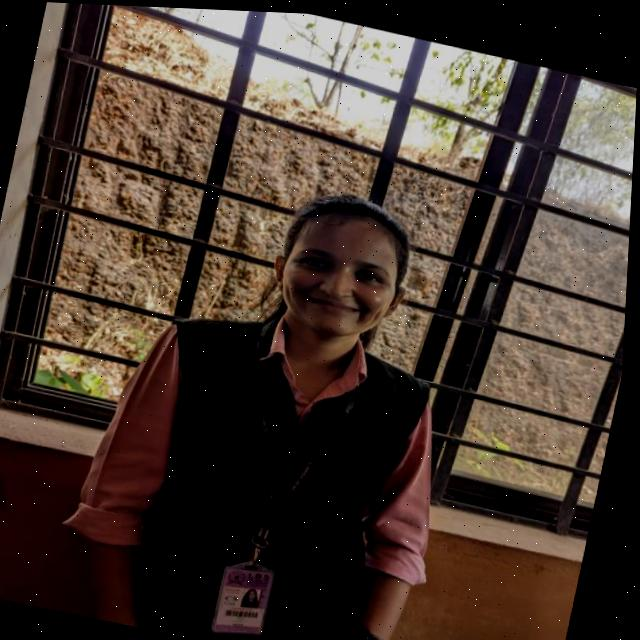id_card: (184, 306, 377, 640)
